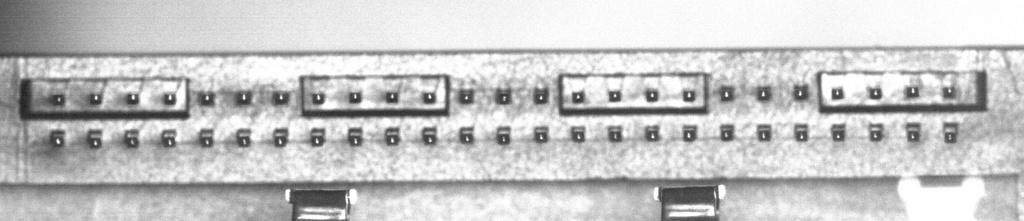pin_ok: (943, 121, 959, 143), (309, 127, 326, 146), (235, 128, 252, 147), (87, 129, 103, 149), (421, 126, 438, 144), (49, 129, 66, 147), (124, 129, 140, 148), (161, 129, 177, 148), (533, 85, 549, 104), (272, 128, 288, 147), (198, 128, 214, 147), (347, 126, 363, 145), (495, 87, 512, 104), (830, 123, 846, 141), (458, 126, 474, 144), (384, 127, 400, 145), (198, 90, 215, 106), (868, 124, 884, 141), (570, 125, 586, 142), (533, 125, 549, 142), (458, 88, 475, 104), (235, 90, 253, 105), (793, 84, 809, 100), (644, 125, 660, 141), (756, 125, 772, 141), (719, 85, 735, 101), (272, 90, 289, 105), (794, 124, 809, 141), (496, 127, 511, 144), (906, 126, 921, 142), (756, 85, 771, 101), (608, 125, 623, 141), (682, 125, 697, 141), (720, 124, 734, 140), (942, 84, 956, 99), (644, 88, 659, 102), (311, 91, 325, 105), (905, 85, 920, 98), (831, 86, 844, 100), (868, 86, 882, 99), (348, 90, 362, 103), (385, 90, 399, 103), (682, 89, 696, 102), (571, 90, 585, 103), (163, 92, 177, 105), (423, 90, 436, 103), (88, 92, 102, 104), (52, 93, 66, 105), (608, 89, 621, 101), (126, 92, 139, 104)
